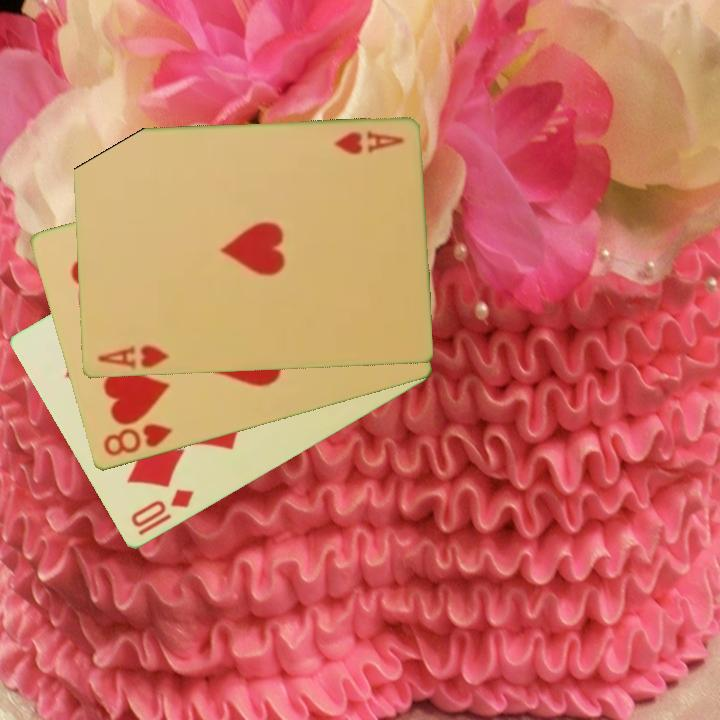10d: (127, 485, 197, 531)
8h: (99, 420, 175, 460)
Ah: (94, 342, 172, 373), (329, 127, 406, 157)
